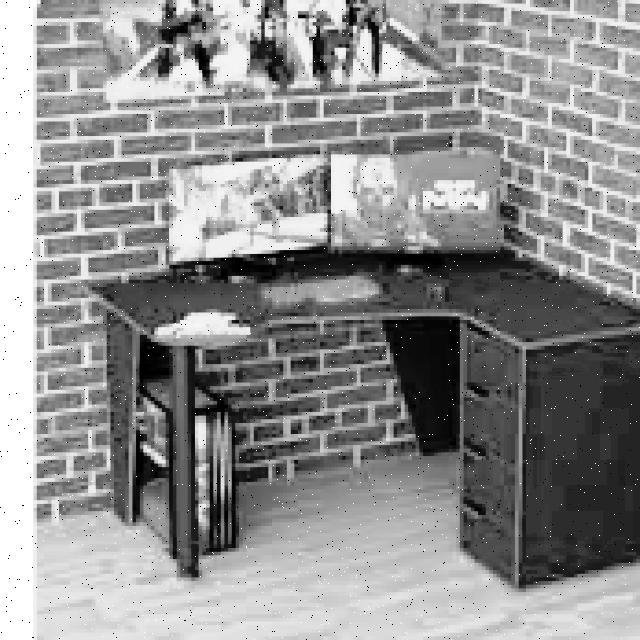table: (81, 250, 640, 589)
